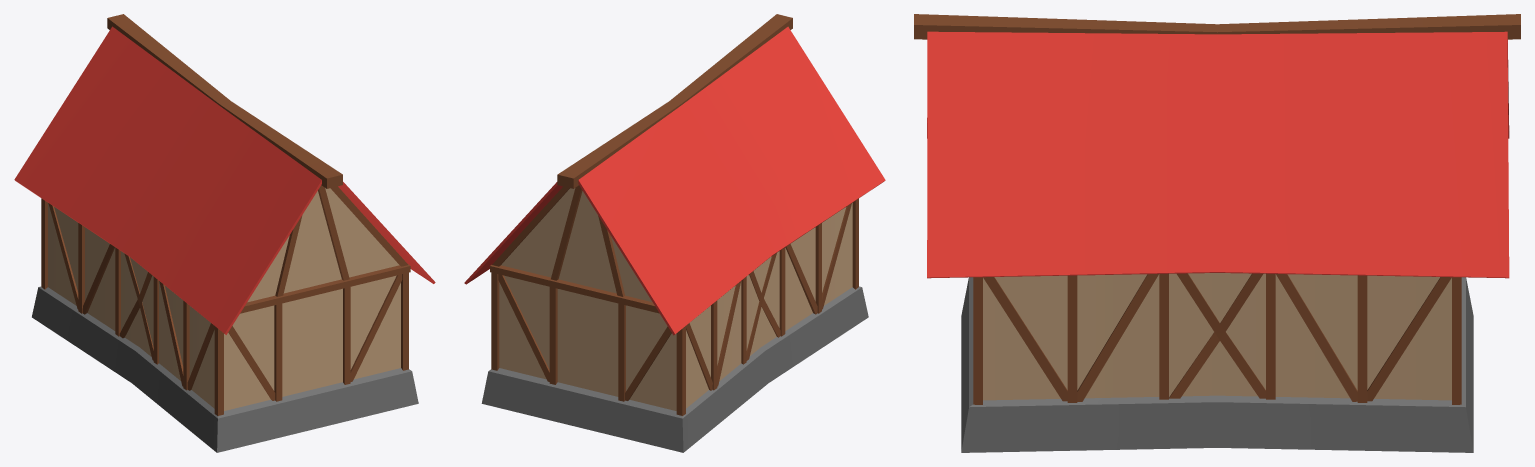
The model's file is Building_002.fbx.
3 views of the same model, side by side, from view 1: azimuth 30°, elevation 25°; view 2: azimuth 150°, elevation 25°; view 3: azimuth 270°, elevation 25° (orthographic). The views are drawn at different scales.
Parts seen in each view (by area): view 1: Building.002_0; view 2: Building.002_0; view 3: Building.002_0.
Boxes of the visible parts, left/top/right/bottom form: Building.002_0: left=14, top=14, right=435, bottom=452; Building.002_0: left=464, top=14, right=885, bottom=452; Building.002_0: left=914, top=14, right=1520, bottom=452.
Size of the model in its own units: 3.27 by 3.91 by 5.88.
